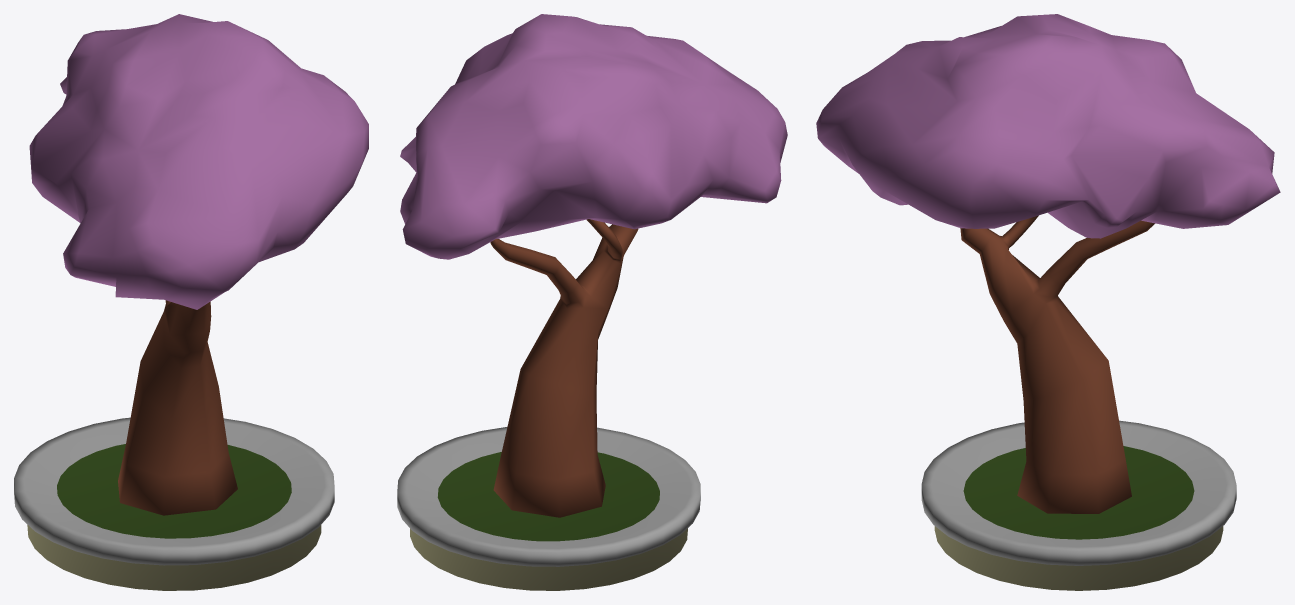
Rendered from arboles parque.fbx.
The picture shows the model from 3 angles, left to right: view 1: azimuth 30°, elevation 25°; view 2: azimuth 150°, elevation 25°; view 3: azimuth 270°, elevation 25°; orthographic projection. The views are drawn at different scales.
Parts seen in each view (by area): view 1: ar.002; view 2: ar.002; view 3: ar.002.
Boxes of the visible parts, x1,y1,x2,y2 form: ar.002: (14, 14, 368, 590); ar.002: (397, 14, 787, 590); ar.002: (816, 14, 1280, 590).
Size of the model in its own units: 2076 by 3262 by 2735.
